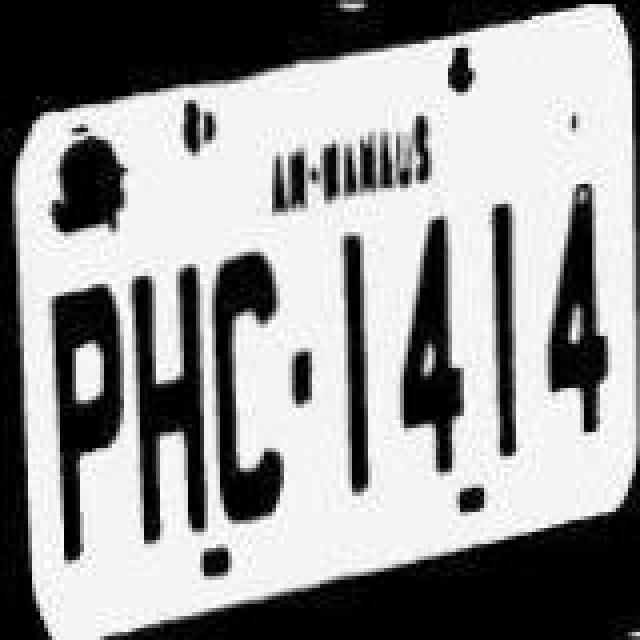1: (478, 184, 534, 476), (322, 224, 378, 500)
4: (536, 176, 620, 472), (394, 206, 474, 478)
C: (208, 240, 292, 532)
H: (132, 246, 208, 538)
P: (40, 268, 124, 572)
